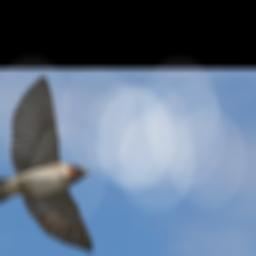Swallow: (0, 75, 94, 252)
